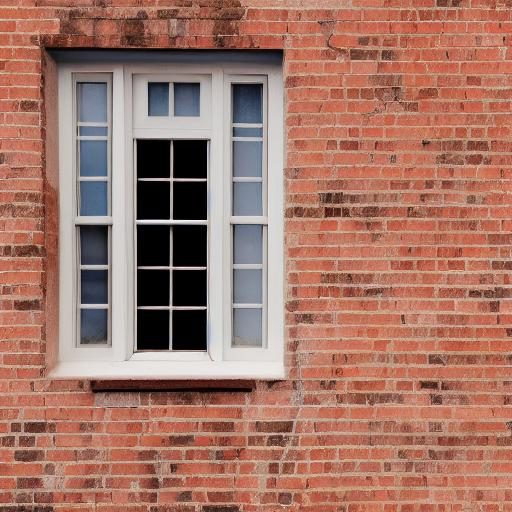Window: (43, 34, 292, 385)
